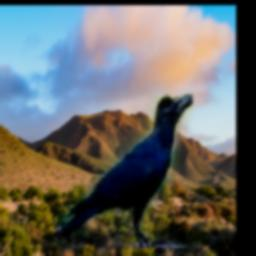Crow: (55, 94, 194, 248)
